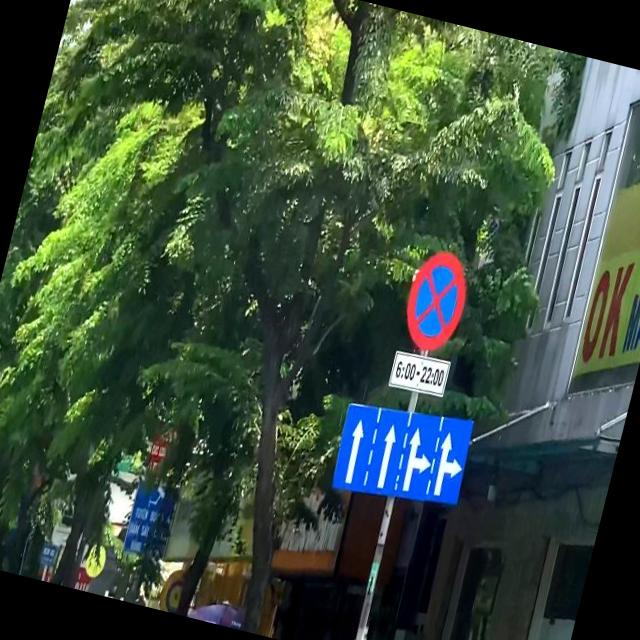P-130: (396, 244, 476, 356)
